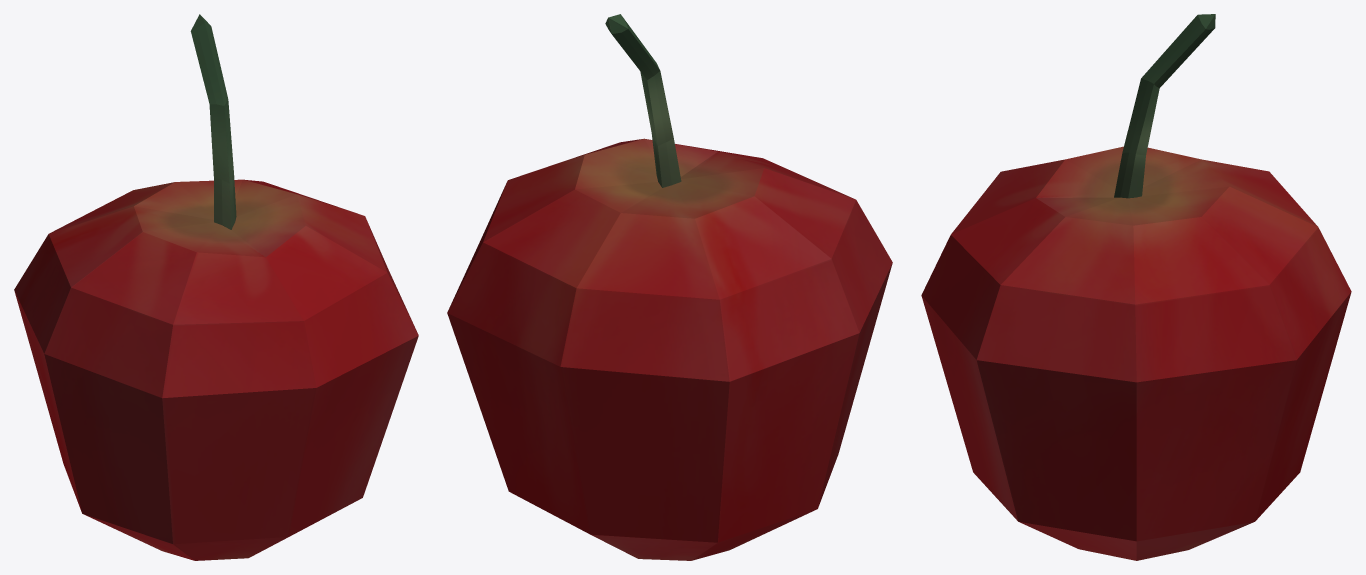
File: maca.fbx
The picture shows the model from 3 angles, left to right: view 1: azimuth 30°, elevation 25°; view 2: azimuth 150°, elevation 25°; view 3: azimuth 270°, elevation 25°; orthographic projection. The views are drawn at different scales.
Parts seen in each view (by area): view 1: Cube; view 2: Cube; view 3: Cube.
Boxes of the visible parts, bbox=[...] form: Cube: bbox=[14, 14, 418, 560]; Cube: bbox=[447, 14, 892, 560]; Cube: bbox=[921, 14, 1351, 560].
Size of the model in its own units: 3.13 by 4.28 by 3.14.
